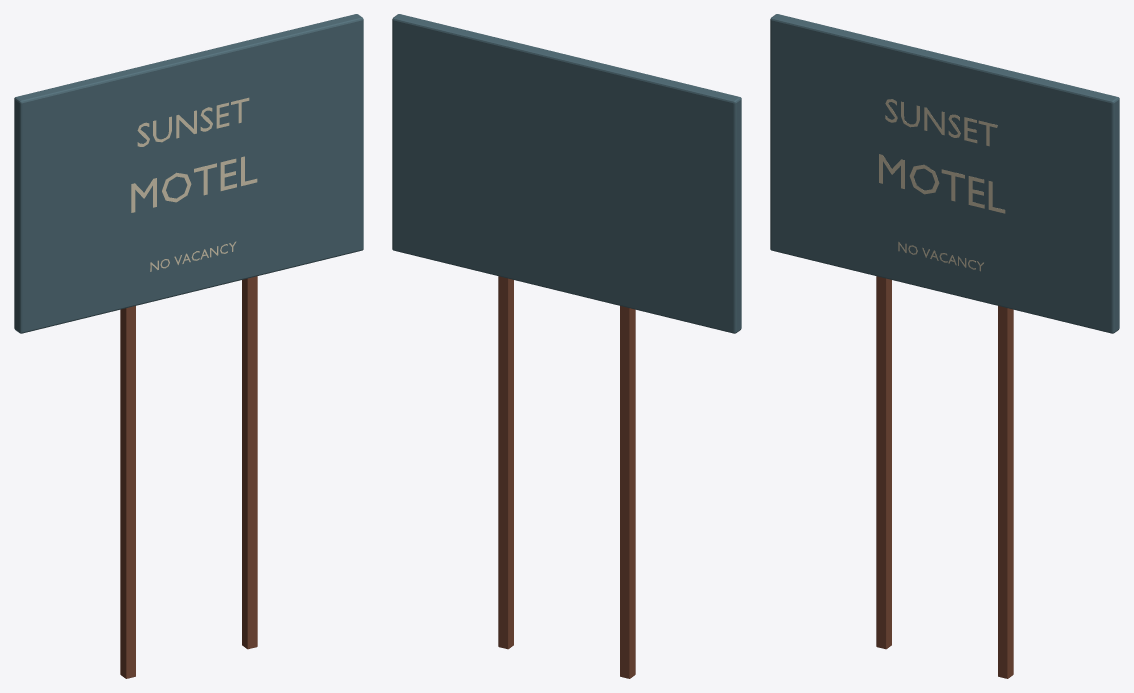
Rendered from env_motel_sign.gltf.
The picture shows the model from 3 angles, left to right: view 1: azimuth 30°, elevation 25°; view 2: azimuth 150°, elevation 25°; view 3: azimuth 330°, elevation 25°; orthographic projection.
Visible parts, largest first — view 1: env_motel_sign__paint_blue, env_motel_sign__rust, env_motel_sign__paper; view 2: env_motel_sign__paint_blue, env_motel_sign__rust; view 3: env_motel_sign__paint_blue, env_motel_sign__rust, env_motel_sign__paper.
Boxes of the visible parts, left/top/right/bottom form: env_motel_sign__paint_blue: left=14, top=14, right=363, bottom=333; env_motel_sign__rust: left=120, top=276, right=257, bottom=678; env_motel_sign__paper: left=131, top=97, right=257, bottom=271; env_motel_sign__paint_blue: left=392, top=14, right=741, bottom=333; env_motel_sign__rust: left=498, top=276, right=635, bottom=678; env_motel_sign__paint_blue: left=770, top=14, right=1119, bottom=333; env_motel_sign__rust: left=876, top=276, right=1013, bottom=678; env_motel_sign__paper: left=879, top=99, right=1005, bottom=271.
Size of the model in its own units: 17 by 28.5 by 0.652.
